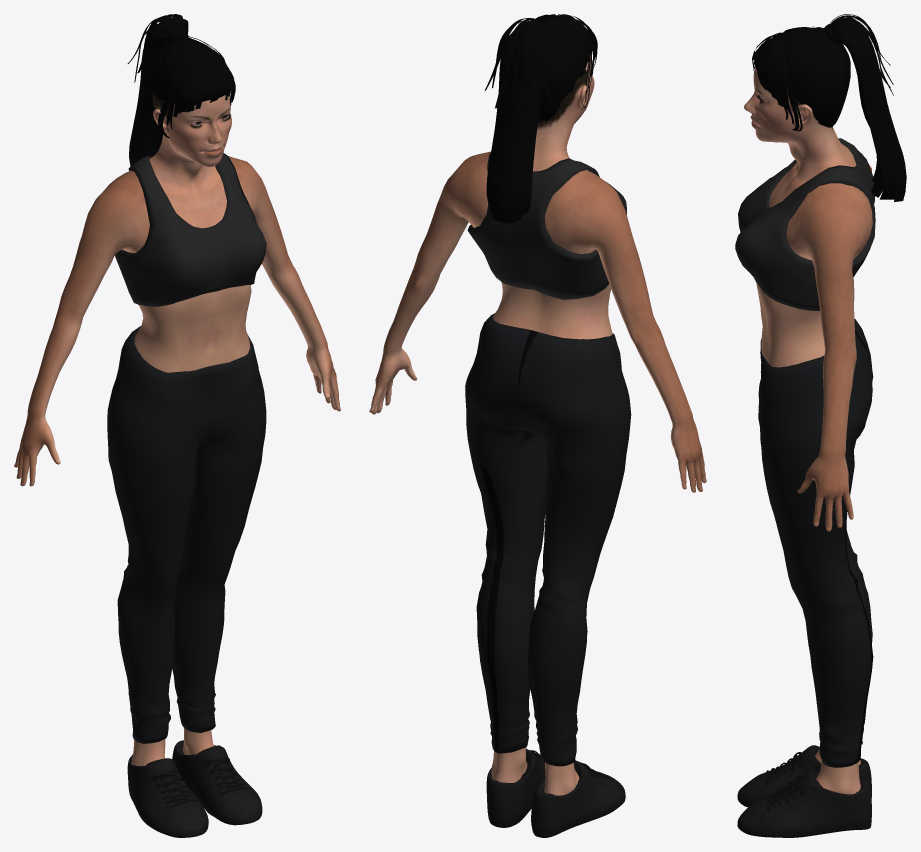
Rendered from C1_JPG_Compressed.glb.
3 renders of one model, left to right at view 1: azimuth 30°, elevation 25°; view 2: azimuth 150°, elevation 25°; view 3: azimuth 270°, elevation 25°, orthographic. The views are drawn at different scales.
Visible parts, largest first — view 1: C1.002, Arms.001, Shoes.001, C1.003; view 2: C1.002, Arms.001, Shoes.001, C1.003; view 3: C1.002, Arms.001, Shoes.001, C1.003.
Part boxes in pixels (x1,y1,x2,y2): C1.002: (107,14,266,743); Arms.001: (14,156,340,486); Shoes.001: (127,740,262,837); C1.003: (131,727,213,766); C1.002: (465,14,631,766); Arms.001: (369,151,706,492); Shoes.001: (486,748,625,837); C1.003: (491,747,579,795); C1.002: (735,14,906,767); Arms.001: (786,153,872,531); Shoes.001: (737,745,871,837); C1.003: (815,748,860,794).
Bounding box in the file's own units: 3.1 × 7.3 × 1.42.
8 materials, 5 textured.
